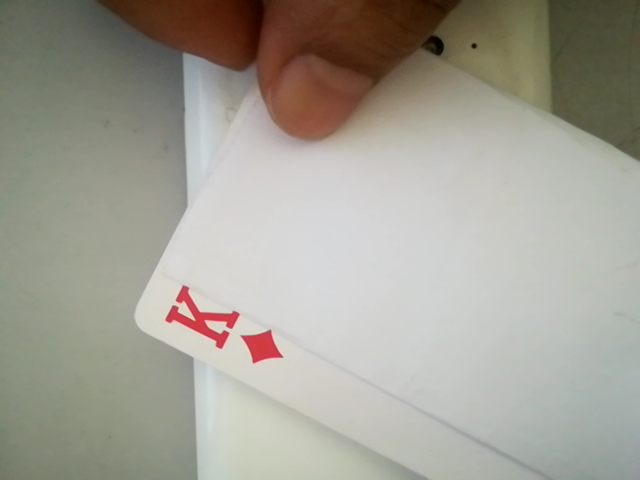fk k: (152, 290, 284, 367)
